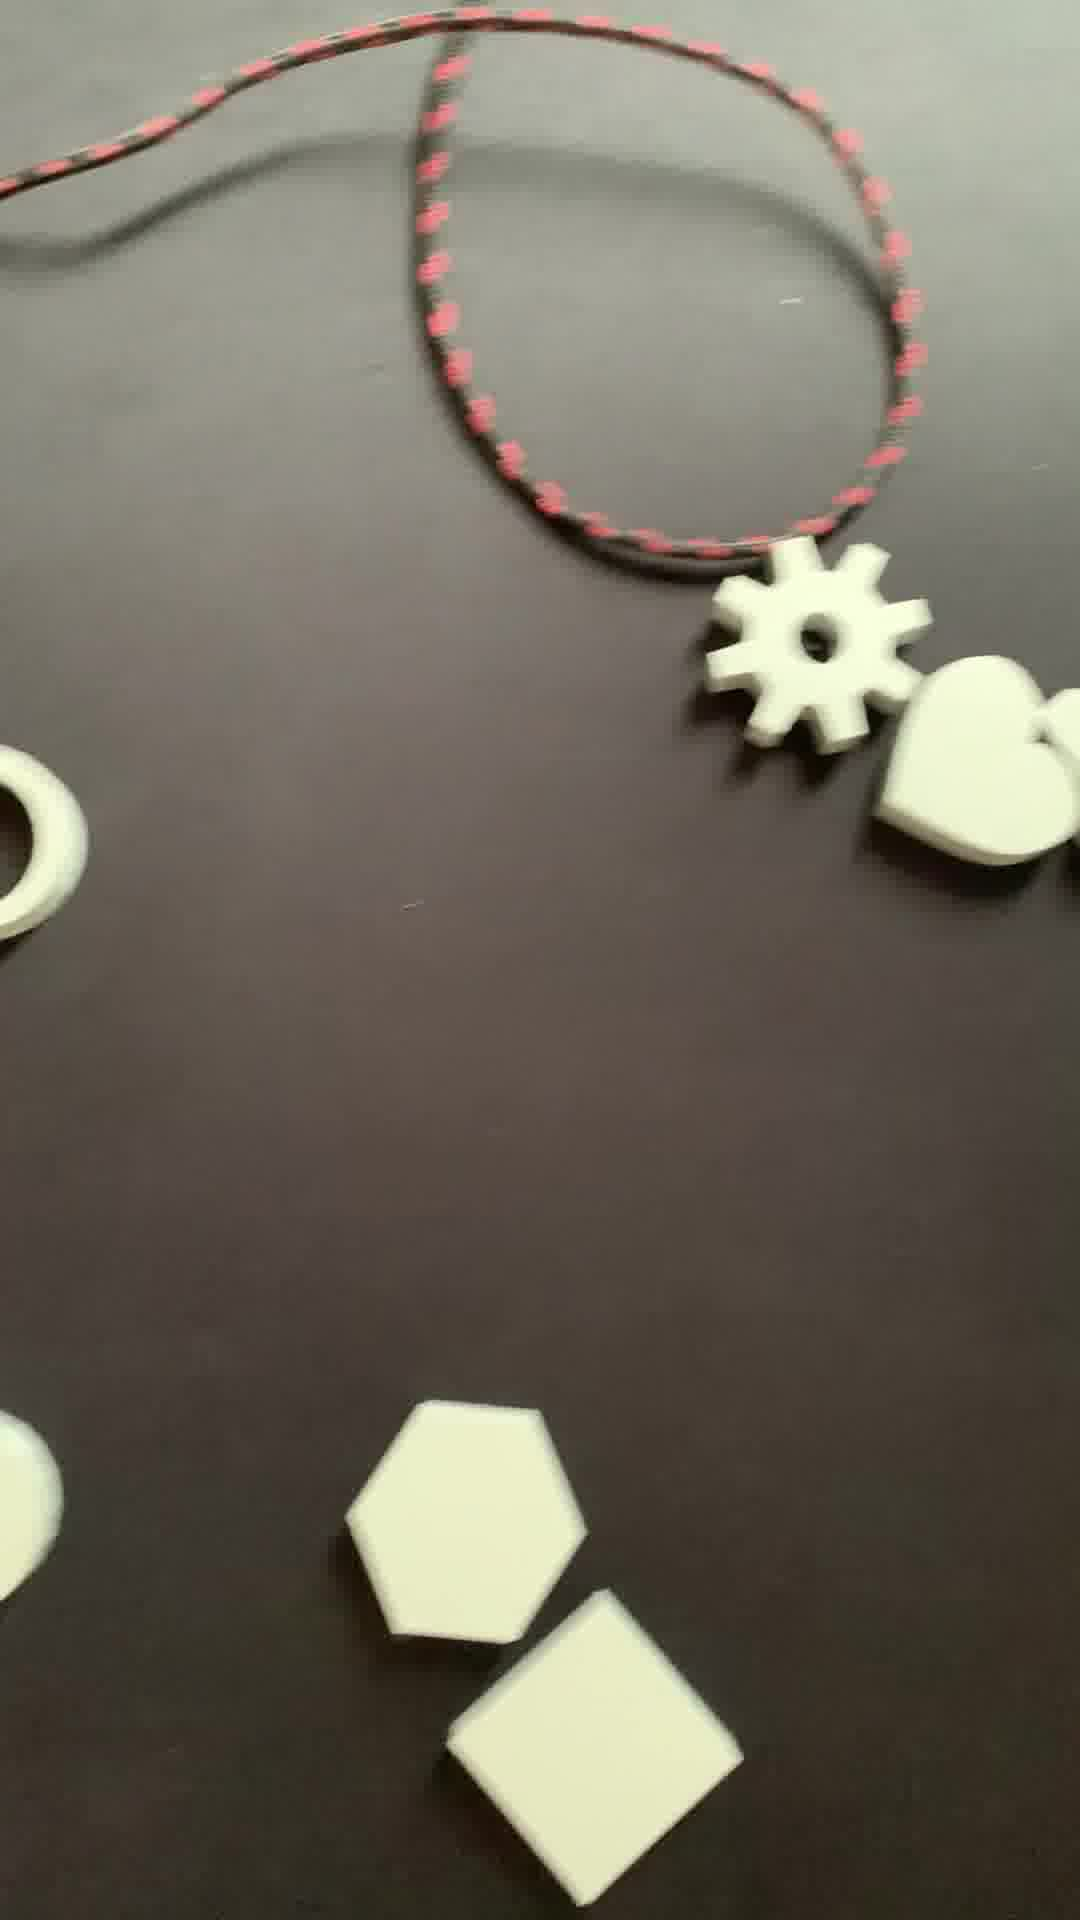Gray gear: (682, 531, 920, 761)
Gray heart: (866, 647, 1080, 872)
Gray hexagon: (327, 1403, 607, 1662)
Gray ring: (1, 735, 127, 955)
Gray square: (444, 1600, 746, 1909)
